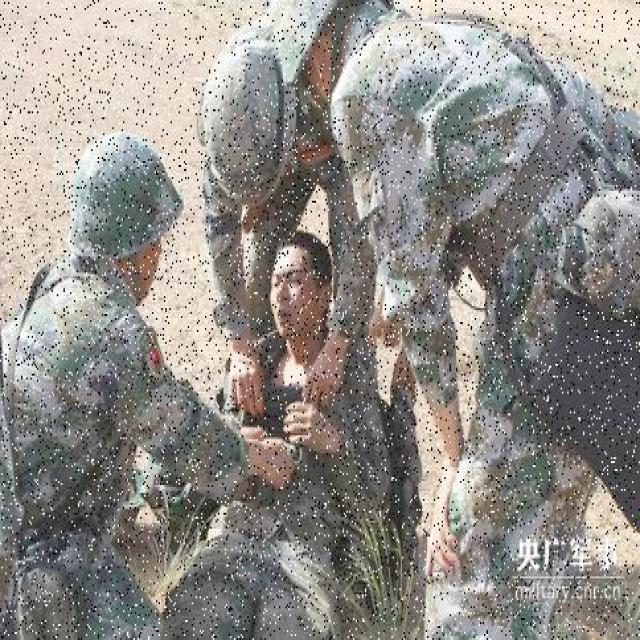fall: (195, 229, 346, 638)
